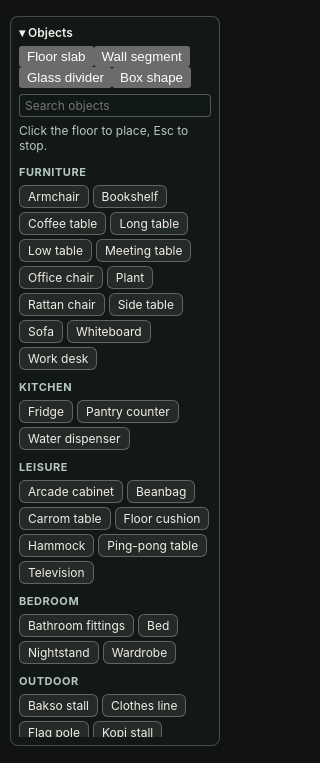
Scenario: PropPalette › can be collapsed to its header
Click the button with class "office-3d-palette-head" at (115, 32), box [19, 25, 211, 40]
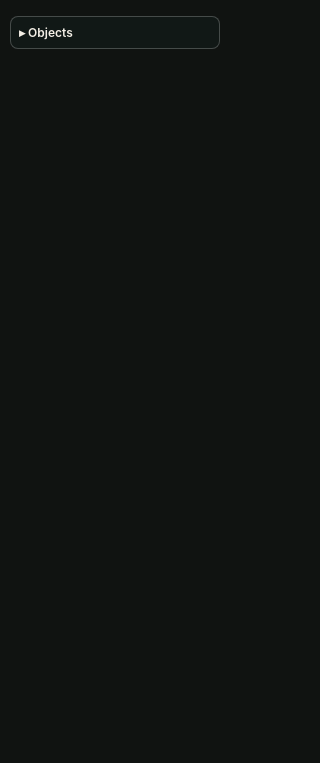
Result: the button with class "office-3d-palette-head" is collapsed at [19, 25, 211, 40]
